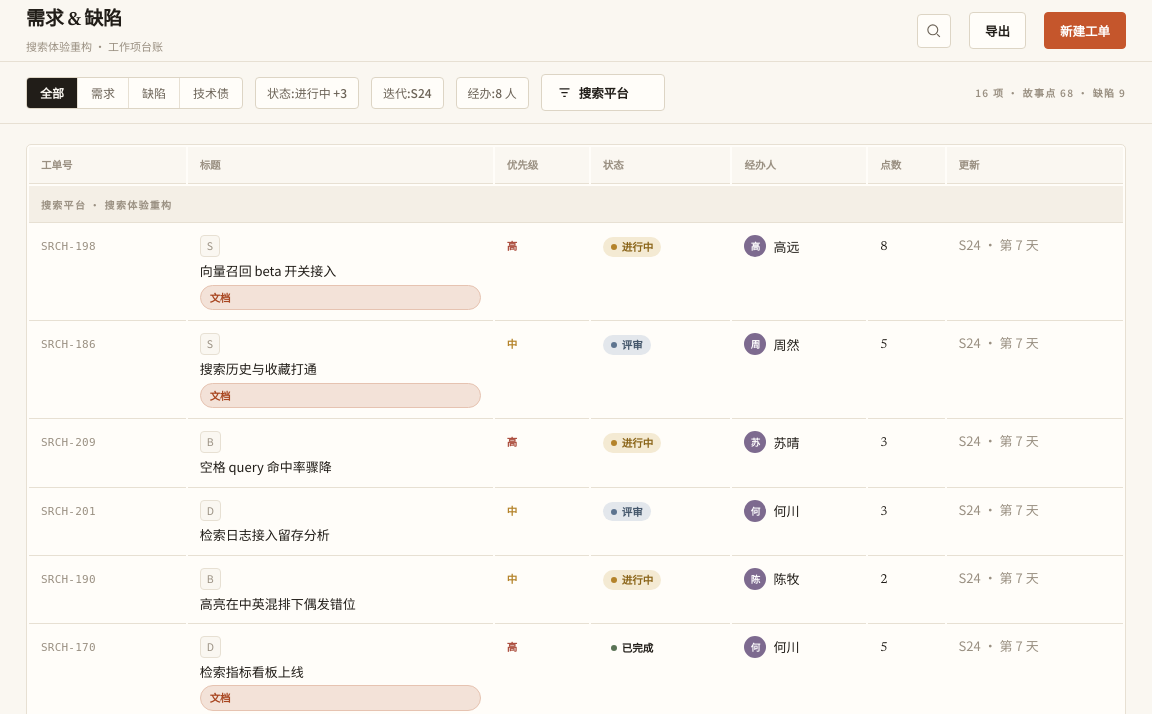
Test: issues ledger and board routes › filters issues by type from the segmented controls
Click the button "缺陷" at (154, 92), box [129,78,180,108]
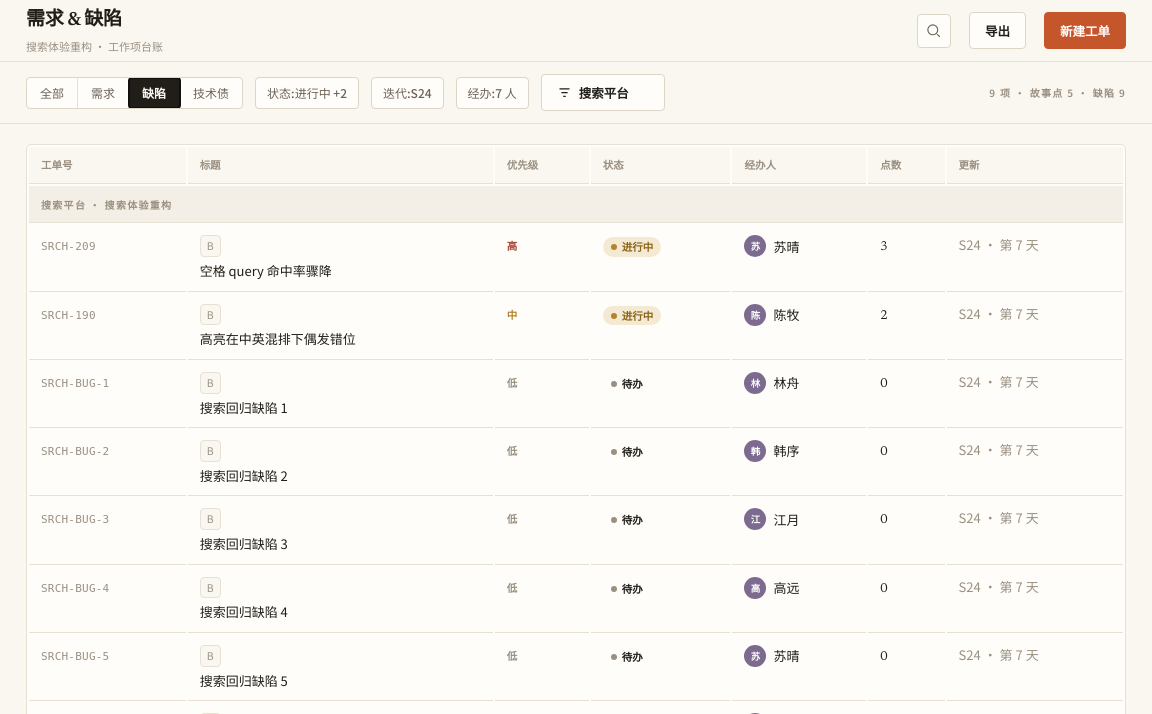
Expected: the text "SRCH-209" is shown, [41,240,96,253]
Expected: the text "SRCH-198" is gone
Click the button "技术债" at (211, 92), box [180,78,242,108]
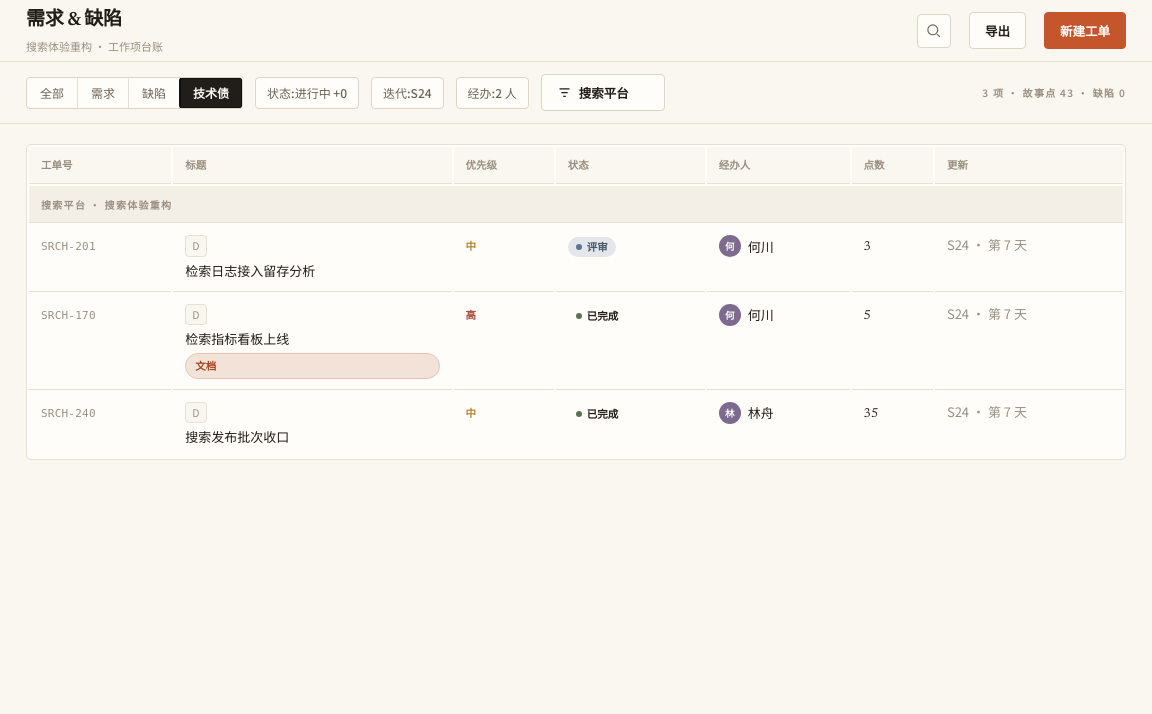
Expected: the text "SRCH-201" is shown, [41,240,96,253]
Expected: the text "SRCH-209" is gone
